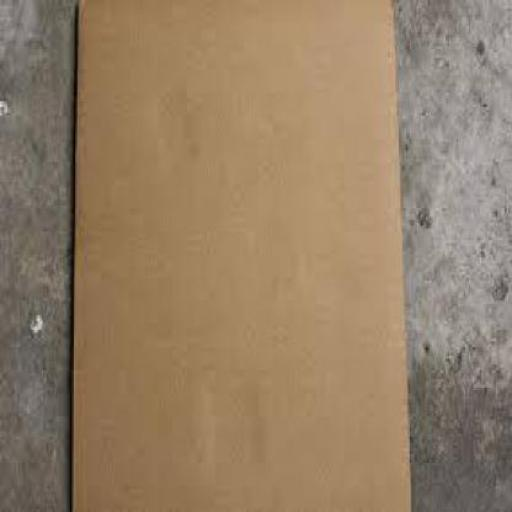cardboard: (70, 0, 410, 510)
